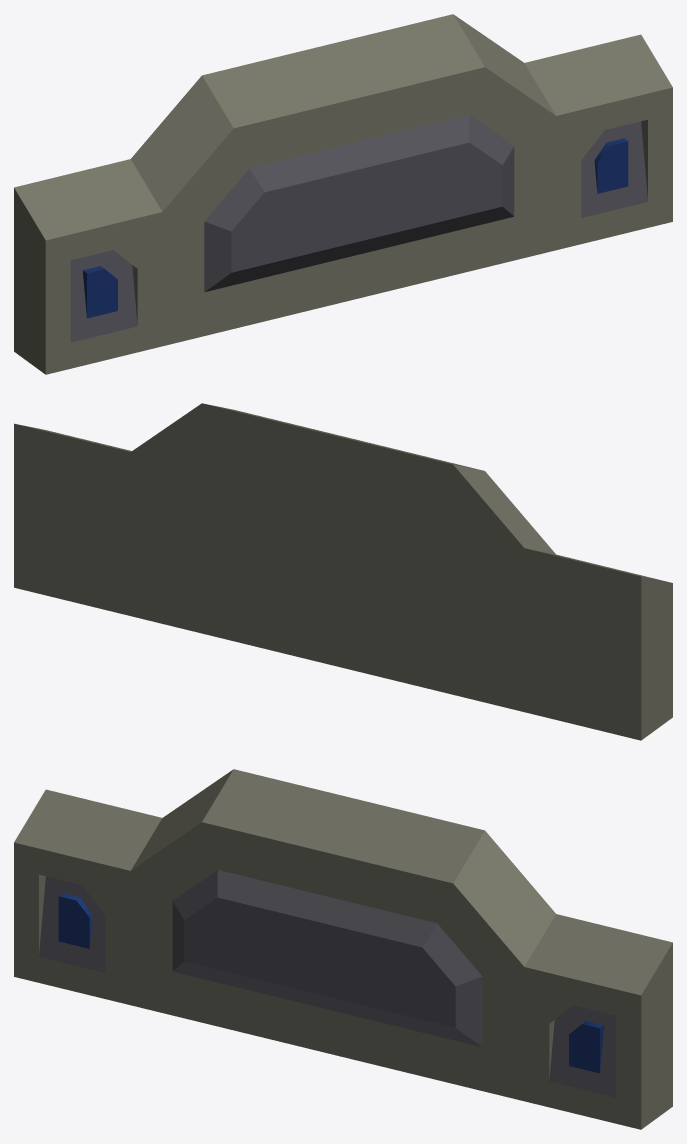
File: LPSciFi_WallCorner.fbx
The picture shows the model from 3 angles, top to bottom: view 1: azimuth 30°, elevation 25°; view 2: azimuth 150°, elevation 25°; view 3: azimuth 330°, elevation 25°; orthographic projection.
Parts seen in each view (by area): view 1: WallCorner; view 2: WallCorner; view 3: WallCorner.
Boxes of the visible parts, x1,y1,x2,y2 form: WallCorner: (14,14,672,374); WallCorner: (14,403,672,740); WallCorner: (14,769,672,1129).
Size of the model in its own units: 400 by 140 by 43.54.
